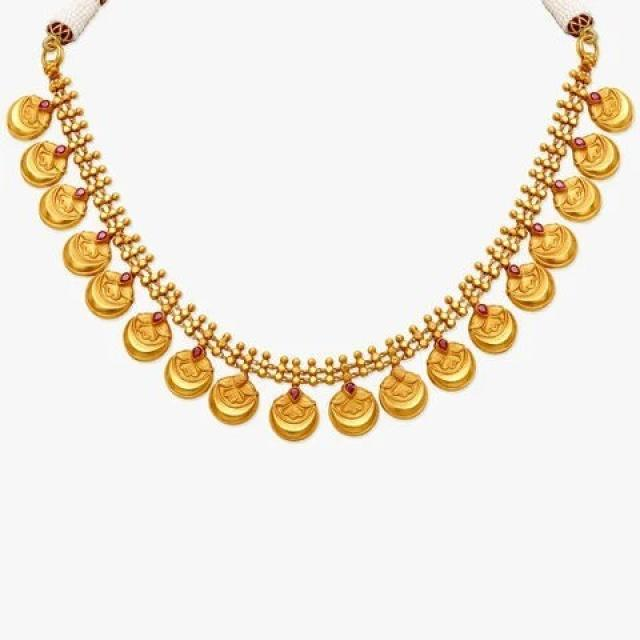missing gem: (393, 365, 405, 381), (236, 372, 247, 386)
